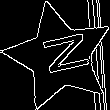N_W: (29, 31, 89, 82)
